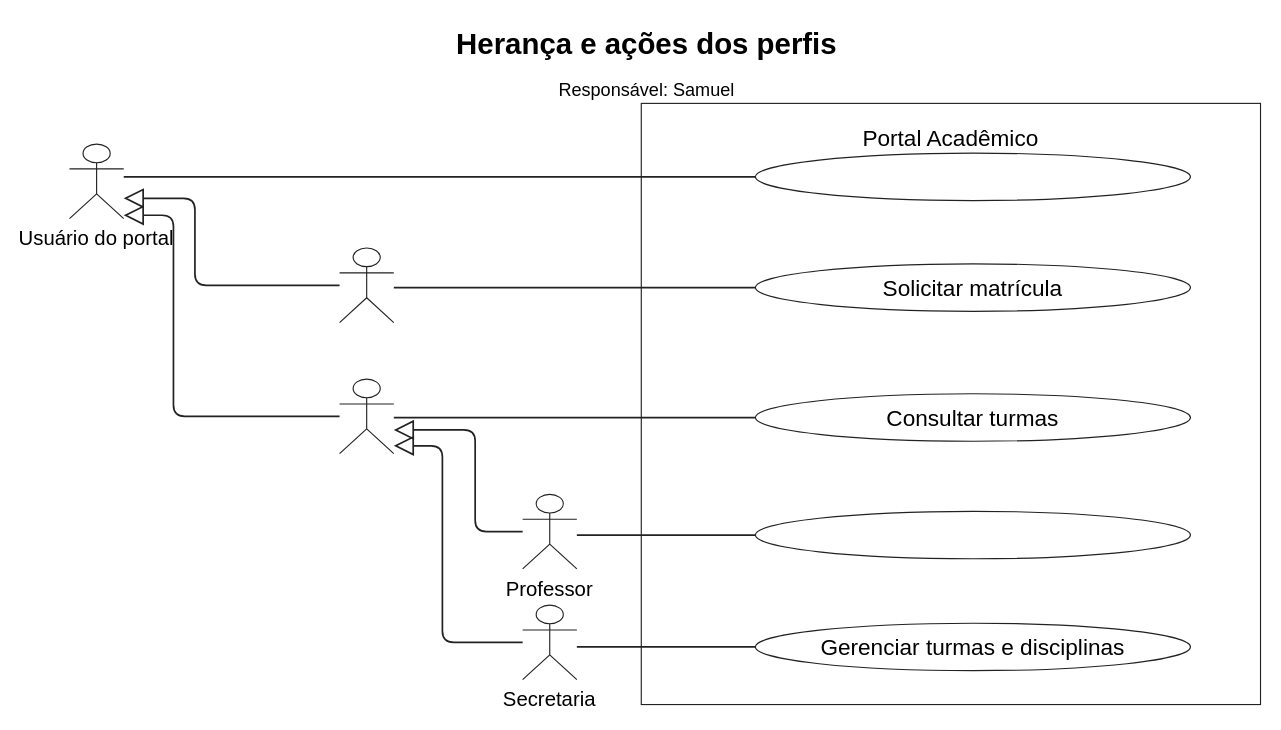
The diagram is 1281 pixels wide and 730 high, and some of its shapes have lost their labels. The centre of each missing label's shape, as x and y in pixels:
Aluno: the point at 366,285
Autenticar-se: the point at 972,176
Lançar ou atualizar notas: the point at 972,534
Servidor: the point at 366,416
